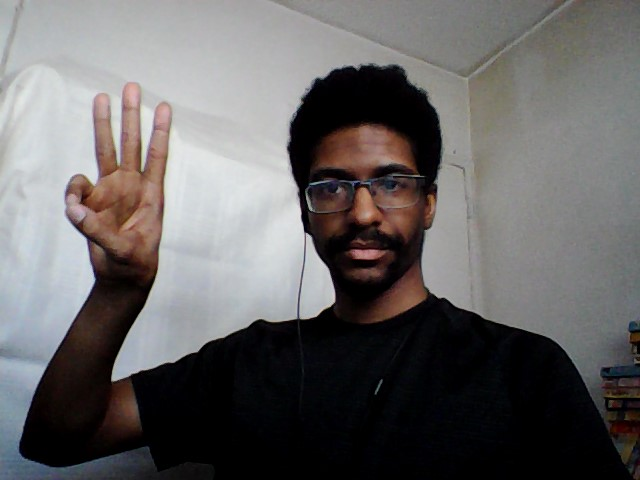w: (58, 76, 176, 292)
